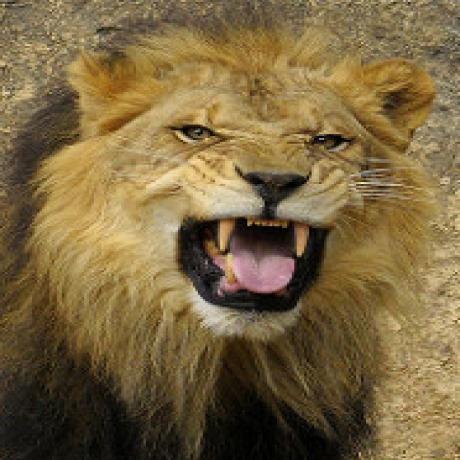Lion: (0, 25, 433, 460)
